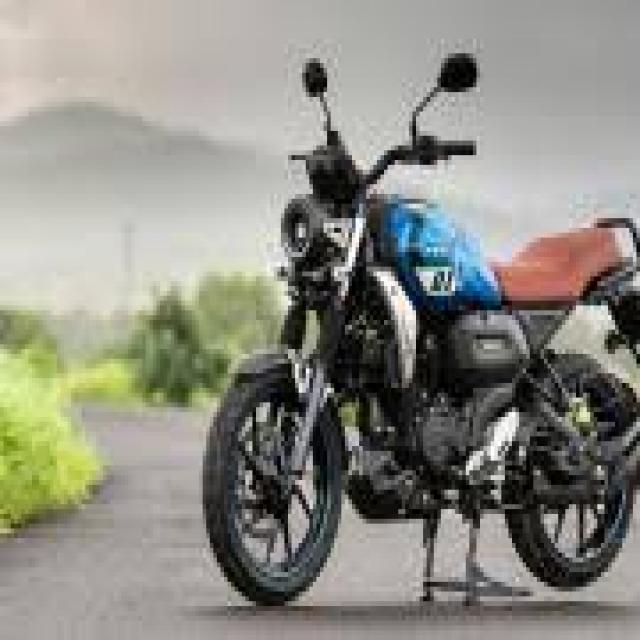Bike: (199, 51, 640, 607)
